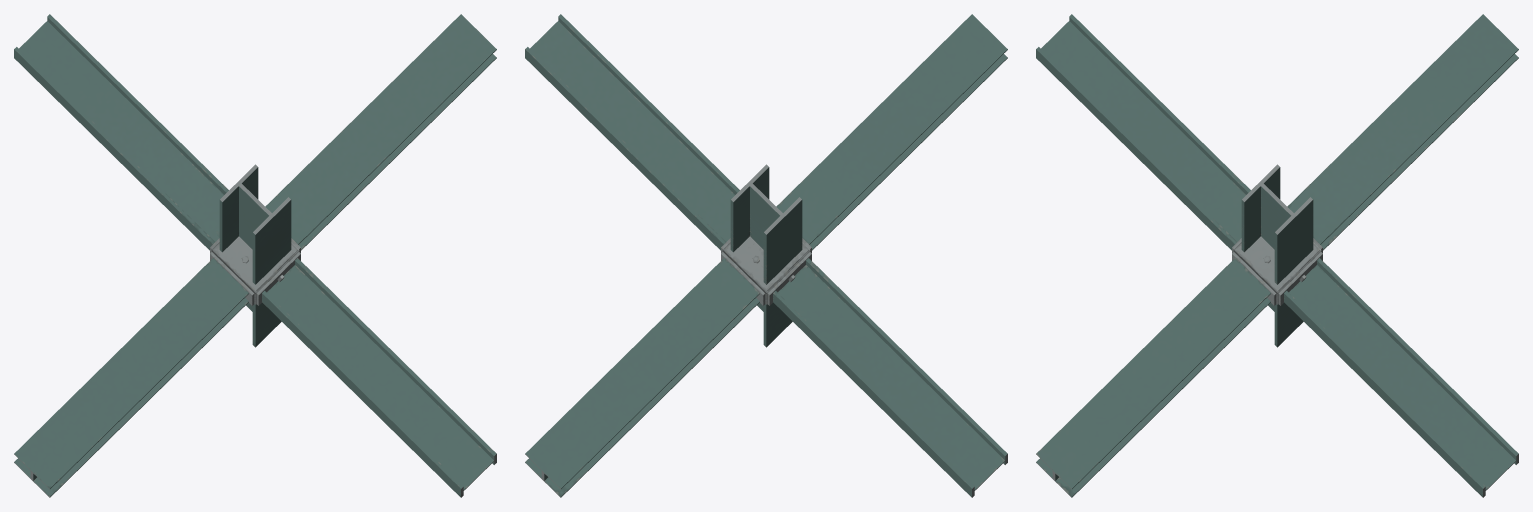
File: bunker_anti_vehicle_hedgehog_single.glb
The picture shows the model from 3 angles, left to right: view 1: azimuth 30°, elevation 25°; view 2: azimuth 150°, elevation 25°; view 3: azimuth 270°, elevation 25°; orthographic projection.
Visible parts, largest first — view 1: AntiVehicleHedgehog; view 2: AntiVehicleHedgehog; view 3: AntiVehicleHedgehog.
Boxes of the visible parts, x1,y1,x2,y2 form: AntiVehicleHedgehog: (14,14,496,497); AntiVehicleHedgehog: (525,14,1007,497); AntiVehicleHedgehog: (1036,14,1518,497).
Size of what is drawn, in the model's own units: 1.76 by 1.34 by 1.53.
Materials: 1 (1 with a texture image).
